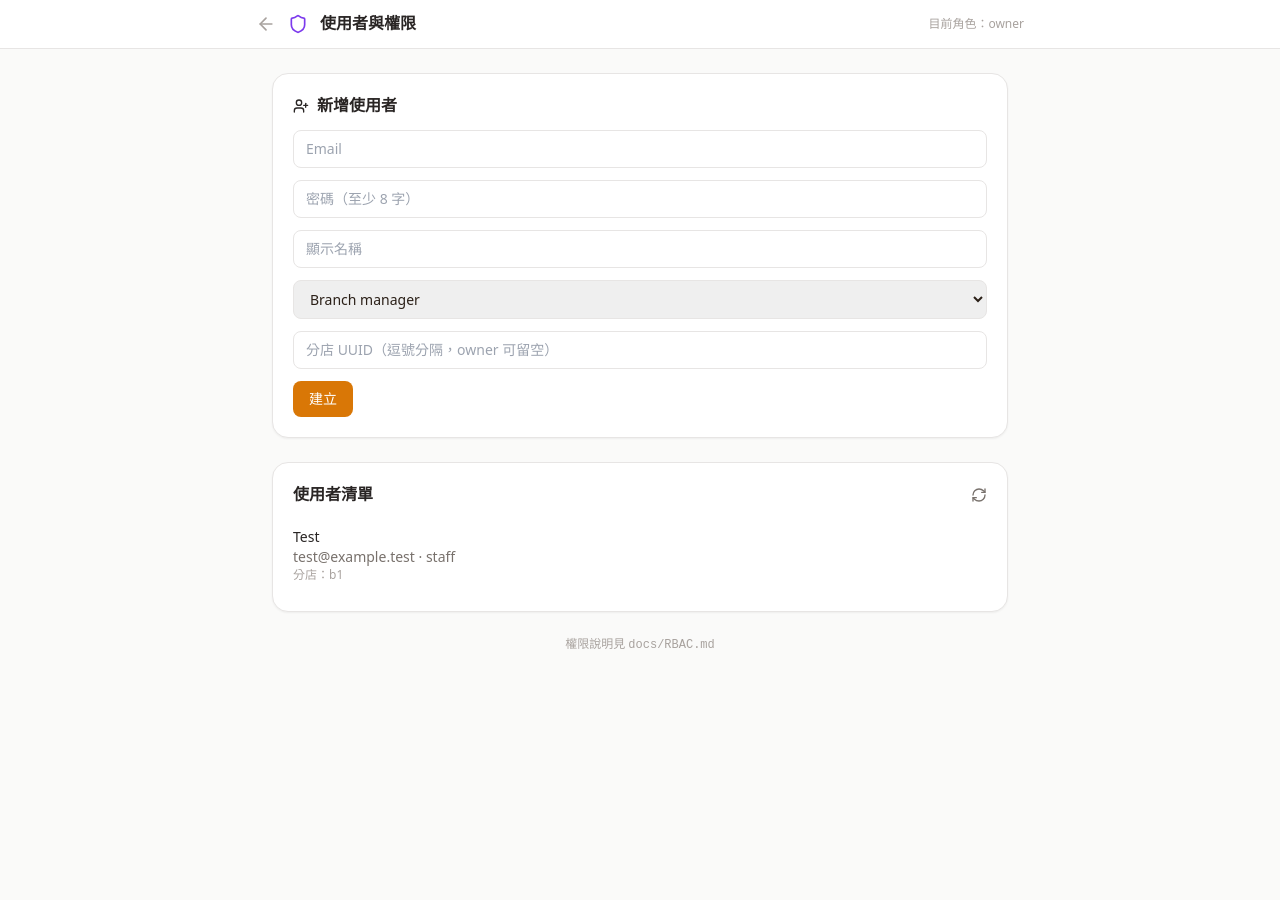
Test: admin user creation recovery › shows a confirmed validation rejection without treating it as an unknown creation
This screenshot has width=1280, height=900.
Type "new@example.test" into the field with placeholder "Email" at (640, 149), box top-left (293, 130), bottom-right (987, 168)
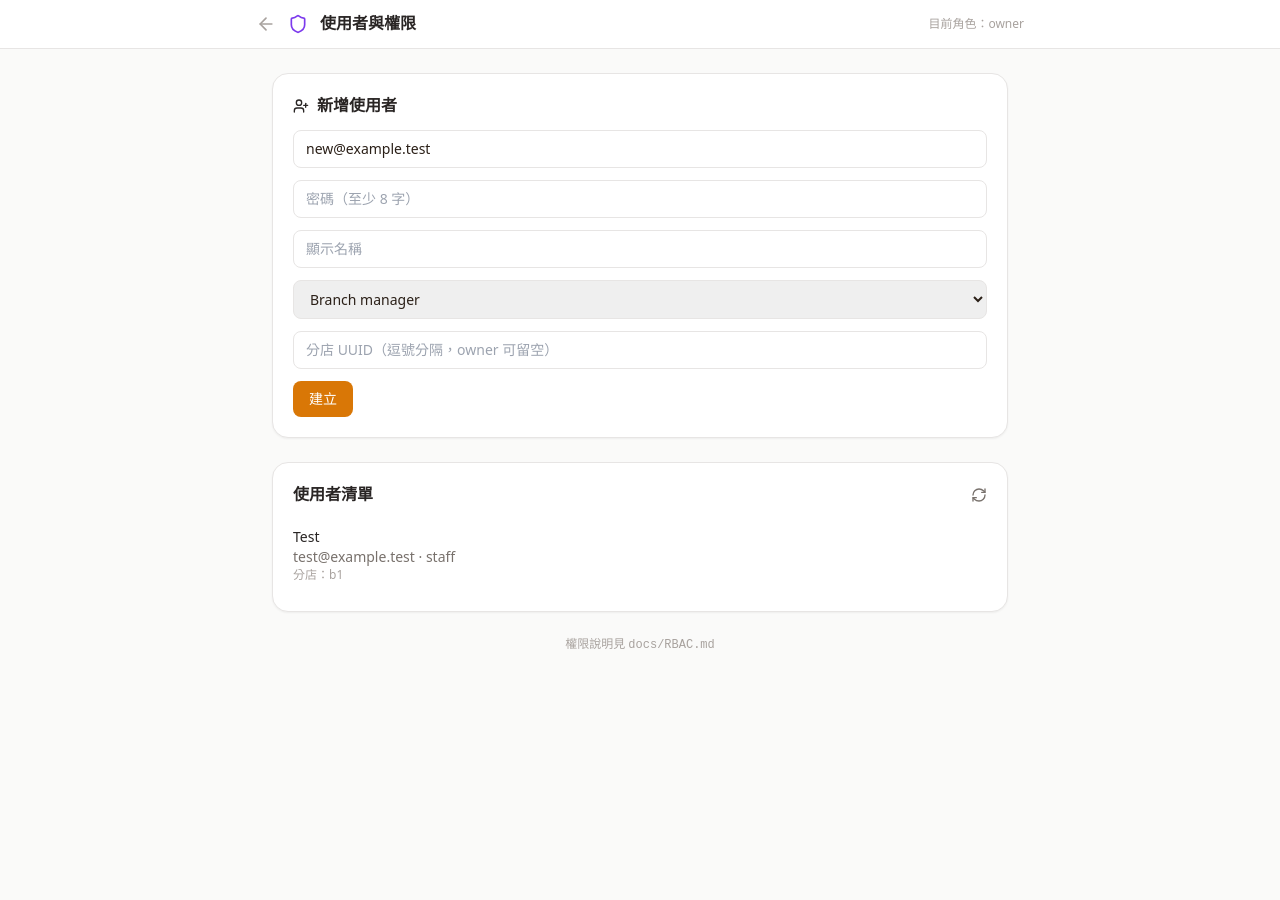
Type "test-password" into the password field with placeholder "密碼（至少 8 字）" at (640, 199), box top-left (293, 180), bottom-right (987, 218)
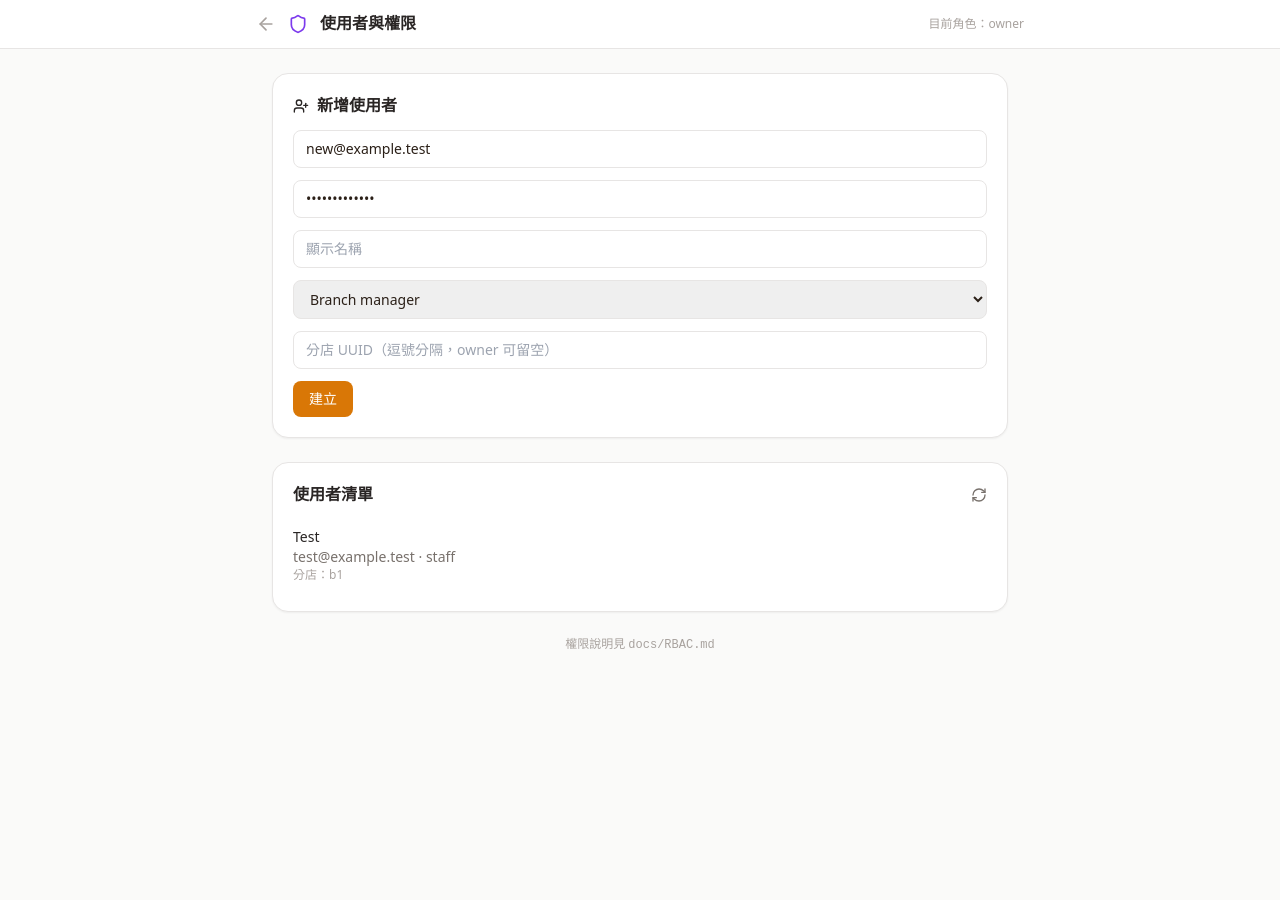
Type "b1" into the field with placeholder "分店 UUID（逗號分隔，owner 可留空）" at (640, 350), box top-left (293, 331), bottom-right (987, 369)
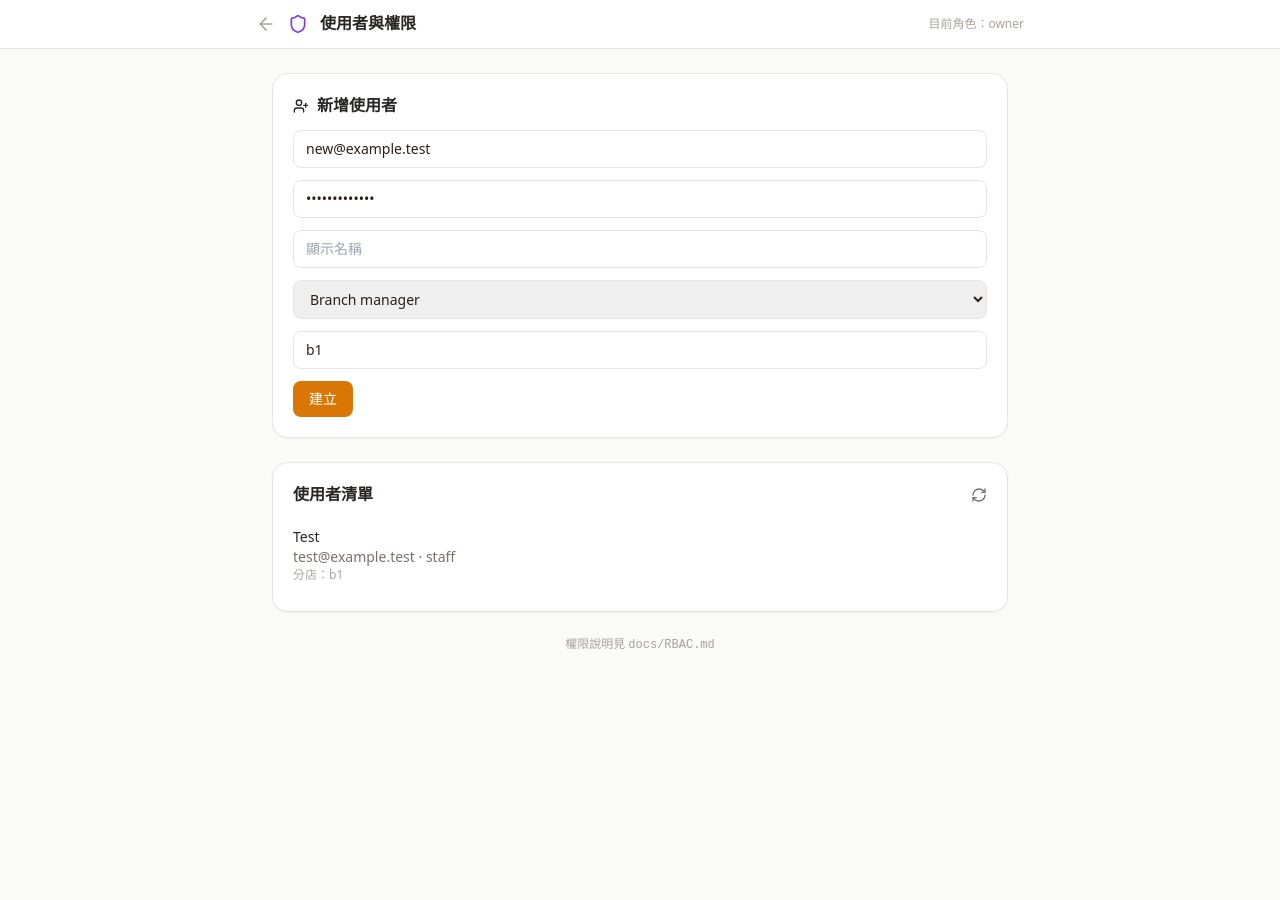
Click the button "建立" at (323, 399), box top-left (293, 381), bottom-right (353, 417)
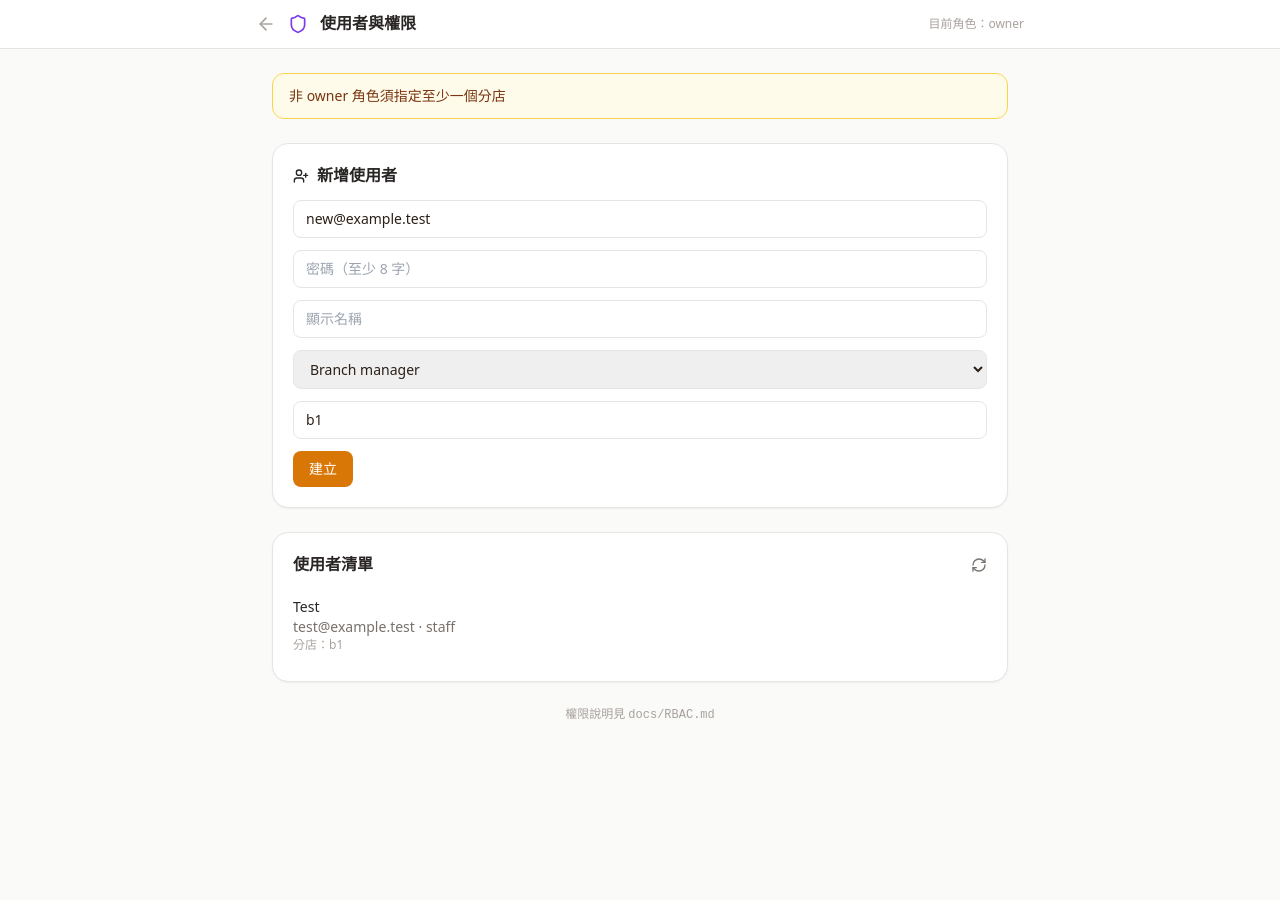
Check: the button "建立" is enabled, box top-left (293, 451), bottom-right (353, 487)
Check: the text "非 owner 角色須指定至少一個分店" is shown, box top-left (272, 73), bottom-right (1008, 119)
